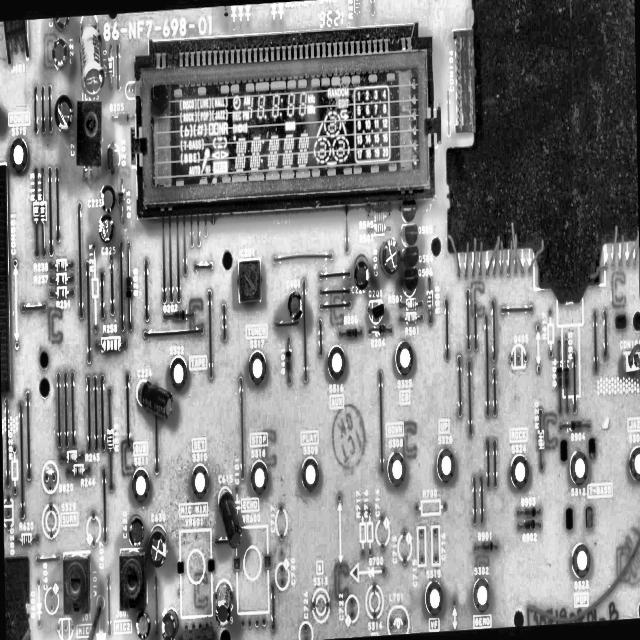PCB: (0, 12, 640, 627)
